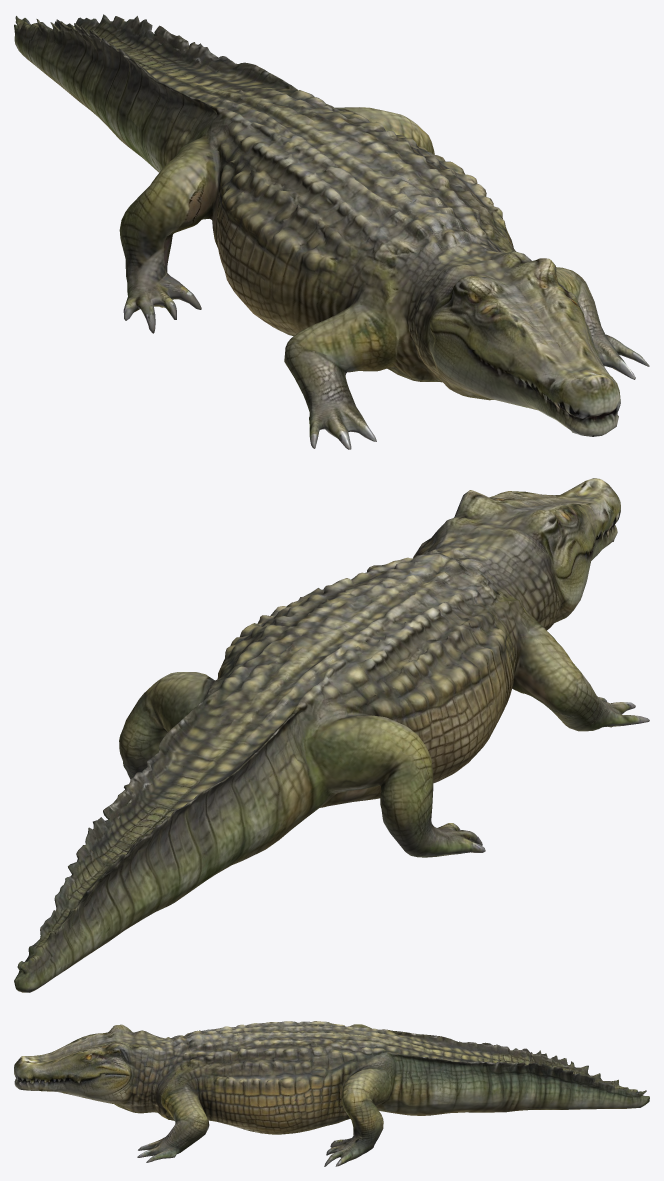
File: crocodile.glb
The picture shows the model from 3 angles, top to bottom: view 1: azimuth 30°, elevation 25°; view 2: azimuth 150°, elevation 25°; view 3: azimuth 270°, elevation 25°; orthographic projection. The views are drawn at different scales.
Bounding box in the file's own units: 0.7069 × 0.3111 × 1.99.
Materials: 1 (1 with a texture image).
